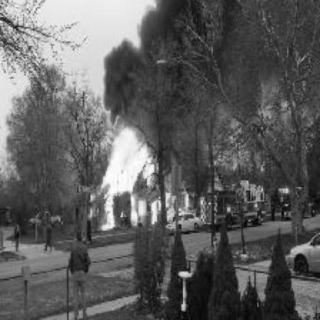Fire: (91, 128, 161, 218)
